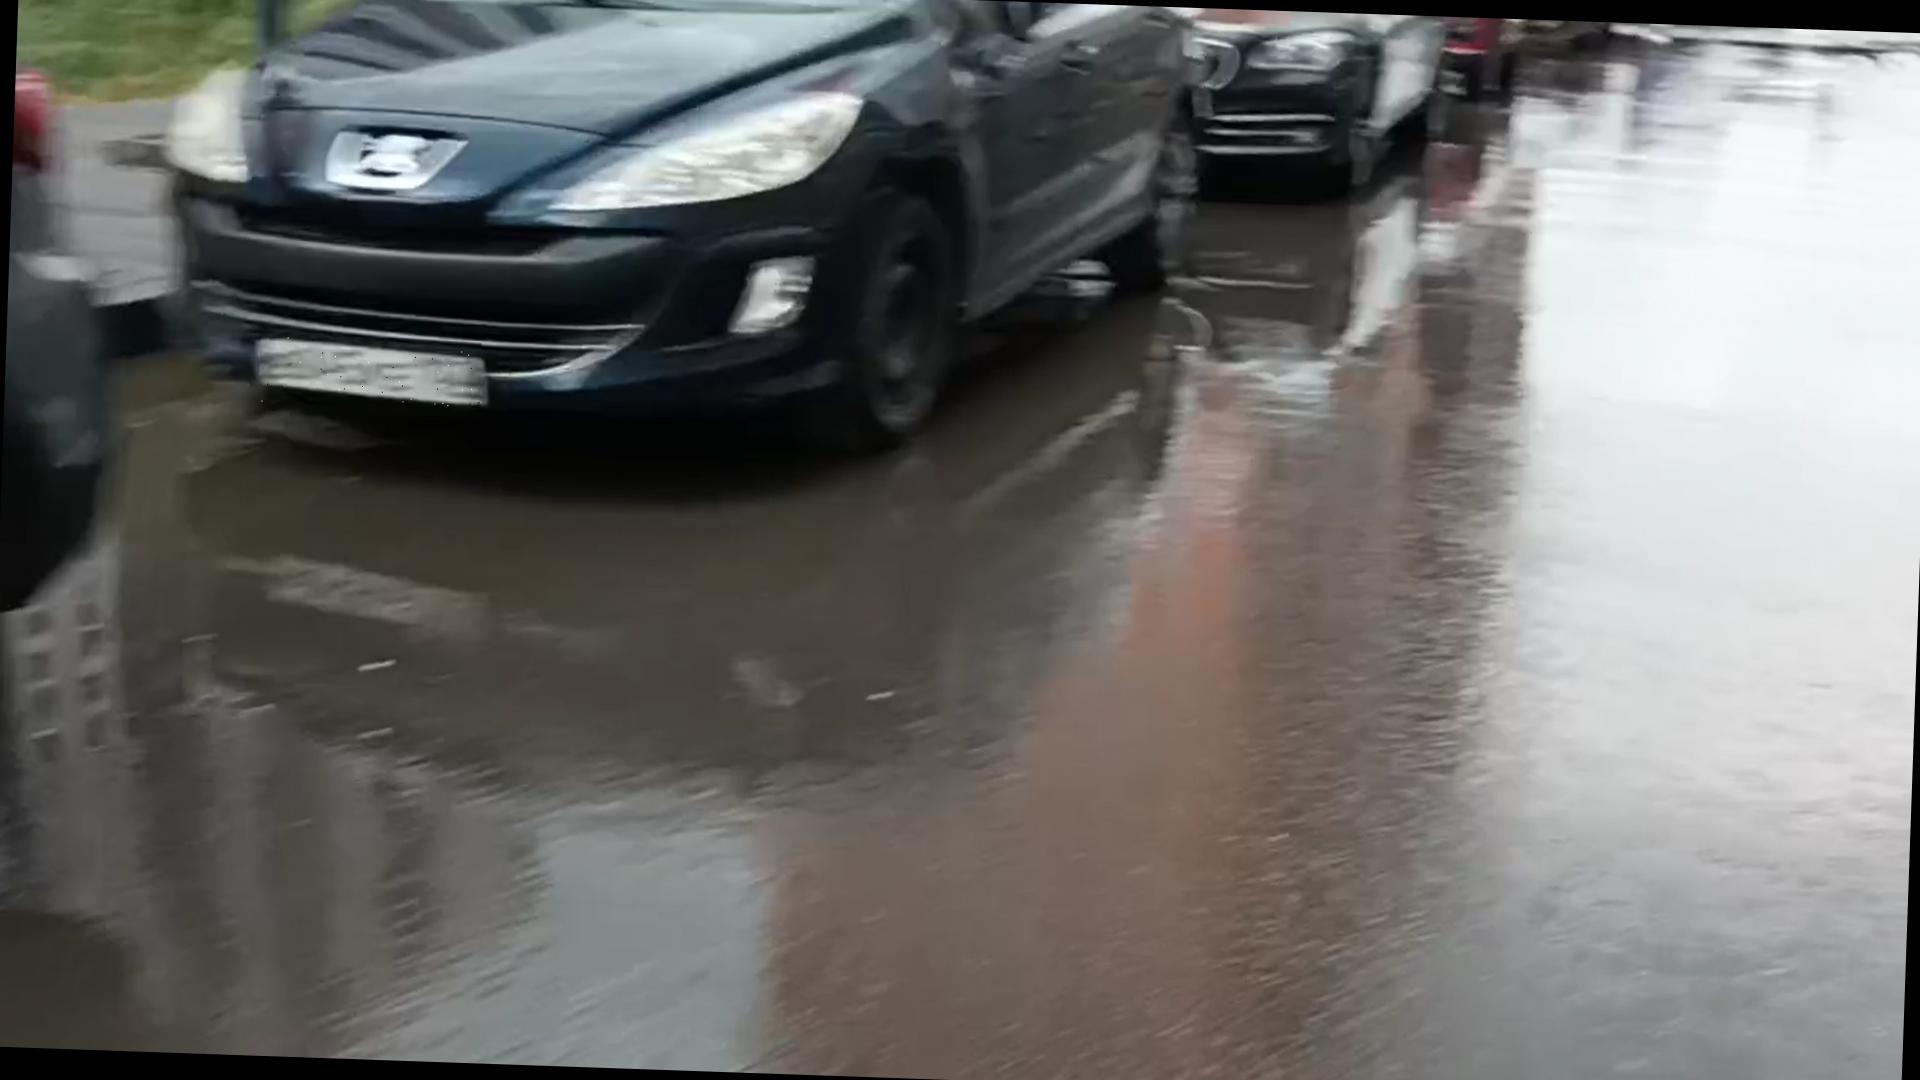plate: (260, 335, 484, 415)
